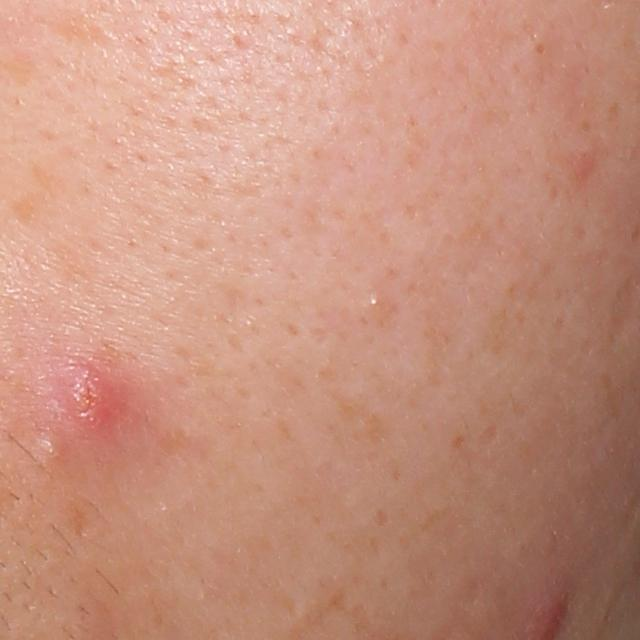comedo: (40, 435, 65, 458), (532, 37, 552, 62), (368, 292, 386, 309)
papule: (76, 366, 128, 439)
